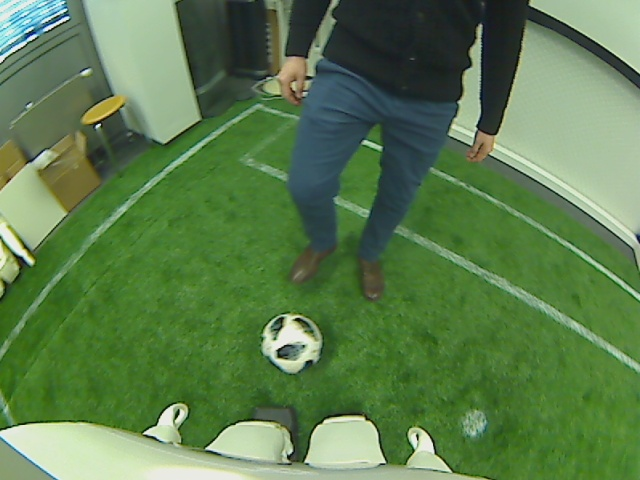ball: (259, 309, 322, 376)
